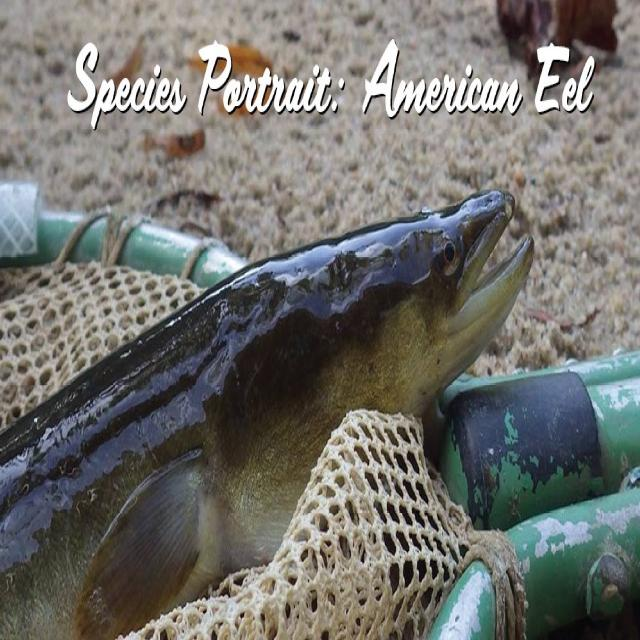Freshwater-Eel: (0, 107, 548, 639)
